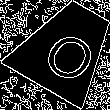O_NE: (32, 16, 100, 81)
